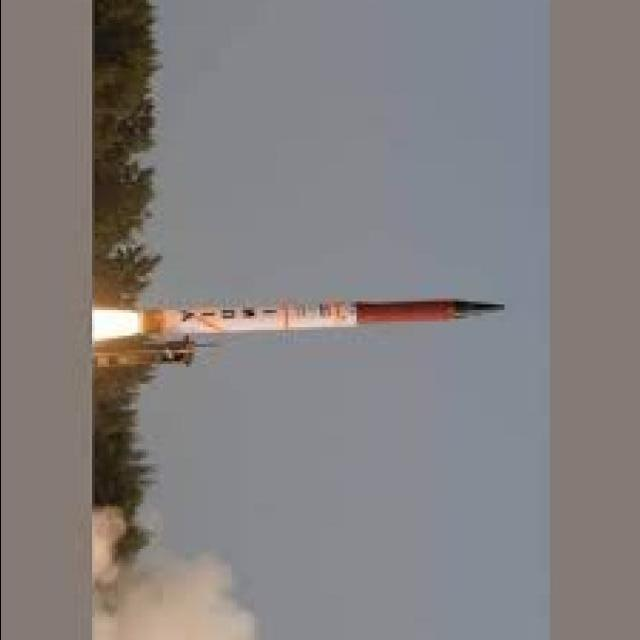Missile: (121, 297, 510, 339)
